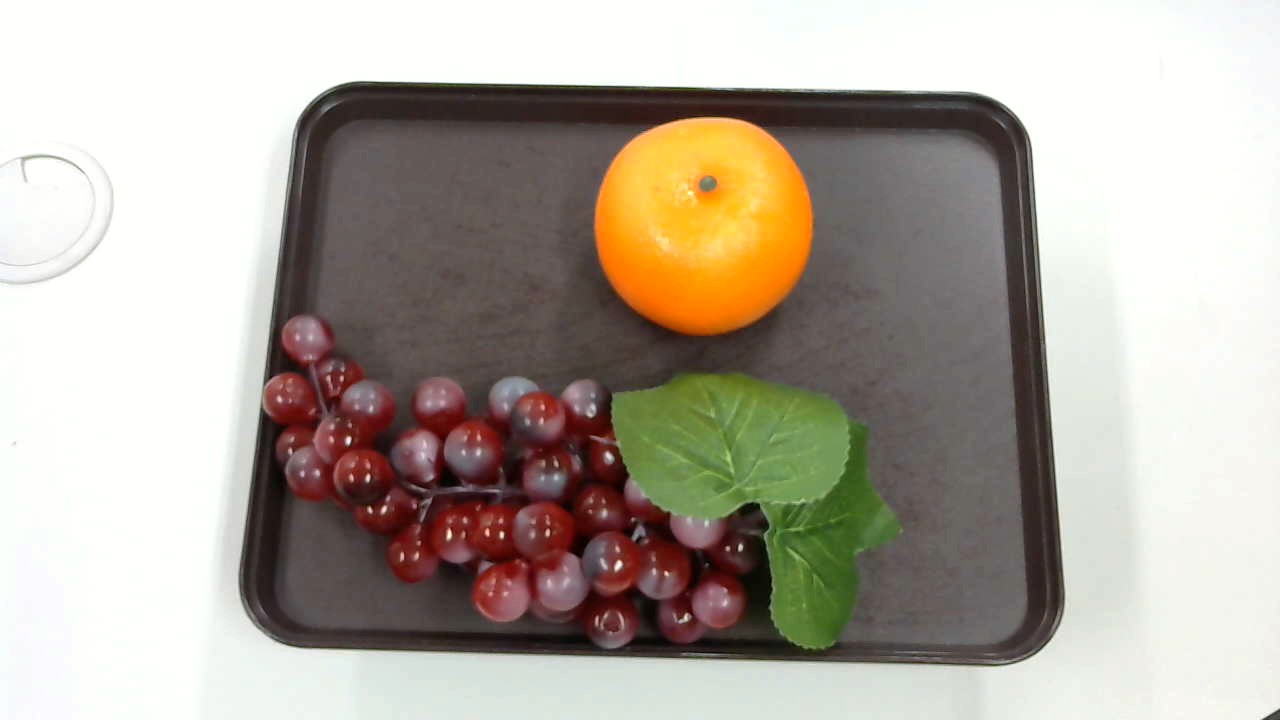grape: (262, 313, 905, 664)
orange: (595, 117, 820, 337)
